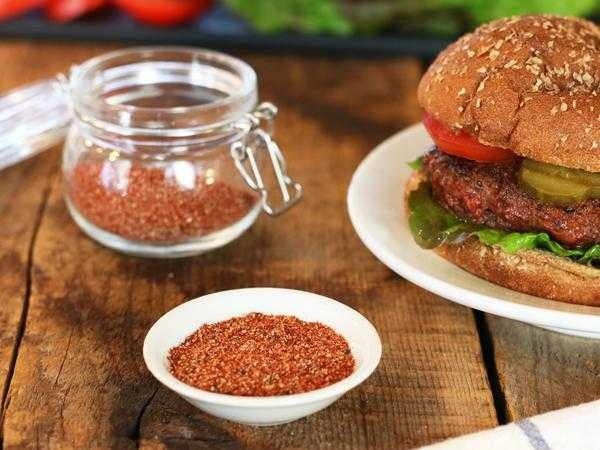hamburger: (412, 14, 600, 305)
